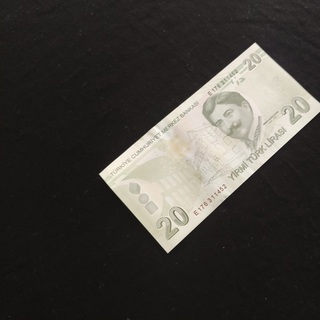20TLBack: (98, 42, 320, 253)
